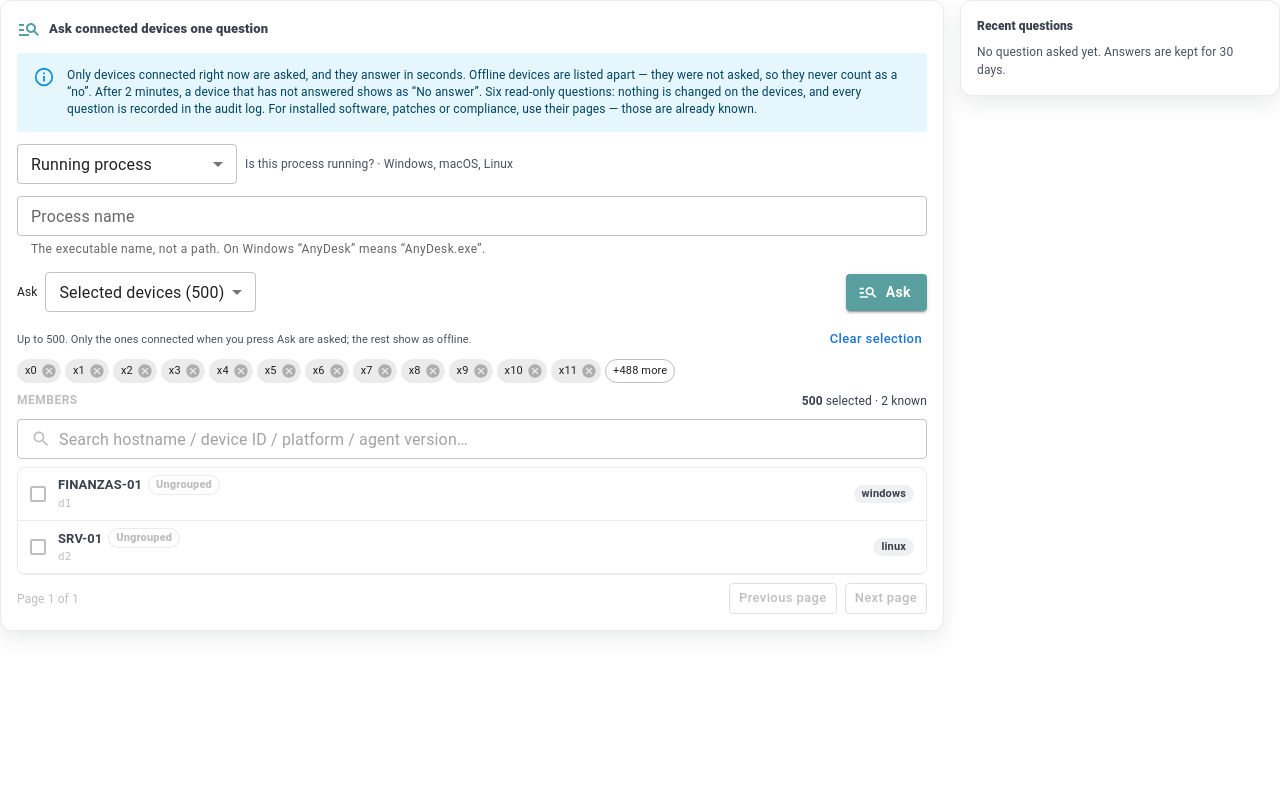
Test: LiveQueryPanel › ⚠️ el tope de 500 del backend se aplica al marcar, no al fallar la pregunta
Click the text "FINANZAS-01".
click(100, 485)  # box [58, 476, 142, 495]
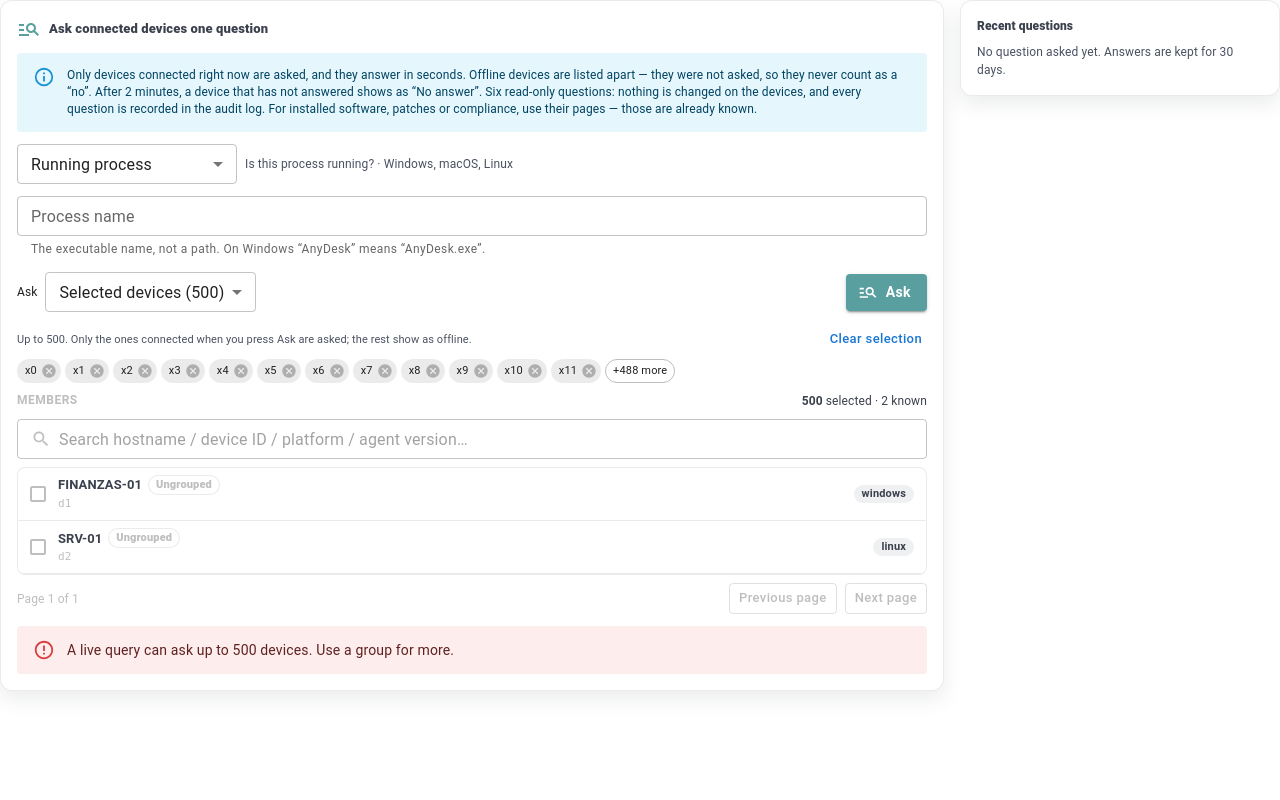
Expected: the text "+488 more" is shown, [613, 364, 667, 377]
Expected: the text "up to 500 devices. Use a group for more" is shown, [67, 642, 454, 658]
